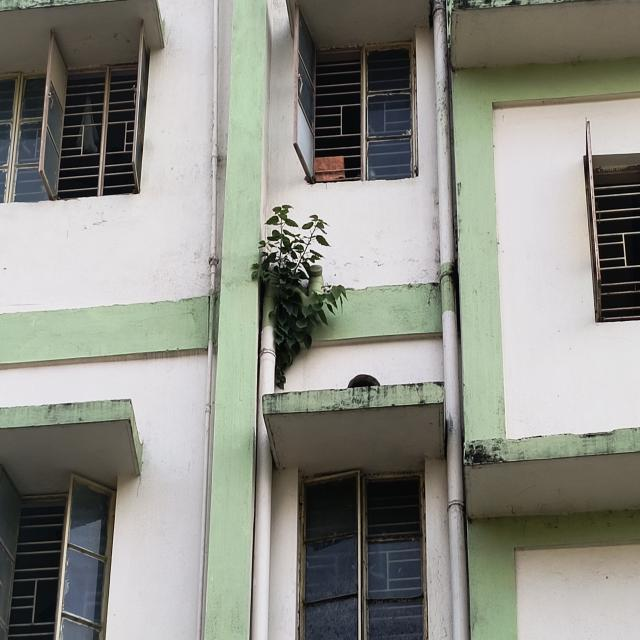Moss growth due to damping: (250, 196, 350, 396)
pollution -moisture induced blackening: (444, 0, 626, 65), (463, 425, 640, 466), (263, 379, 445, 415), (0, 401, 131, 430), (0, 0, 146, 10)
